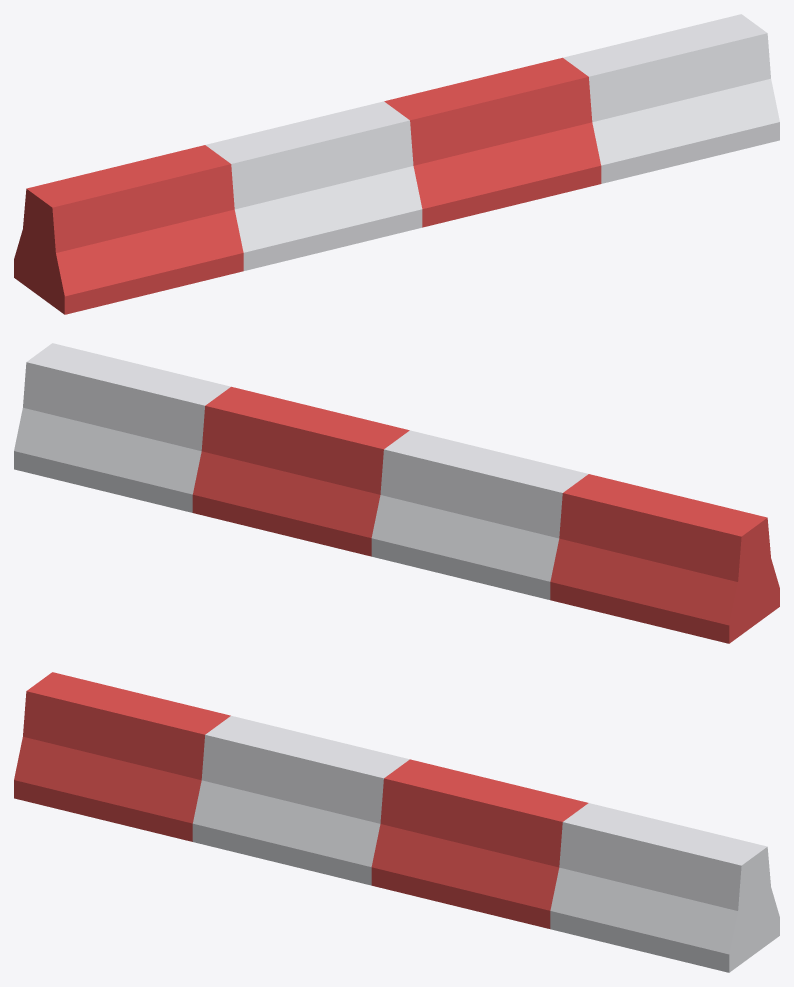
The model's file is barrierWall.obj.
3 renders of one model, top to bottom at view 1: azimuth 30°, elevation 25°; view 2: azimuth 150°, elevation 25°; view 3: azimuth 330°, elevation 25°, orthographic.
Visible parts, largest first — view 1: barrierWall; view 2: barrierWall; view 3: barrierWall.
Boxes of the visible parts, x1,y1,x2,y2 form: barrierWall: (14, 14, 779, 314); barrierWall: (14, 343, 779, 643); barrierWall: (14, 672, 779, 972).
Bounding box in the file's own units: 1 × 0.1312 × 0.123.
